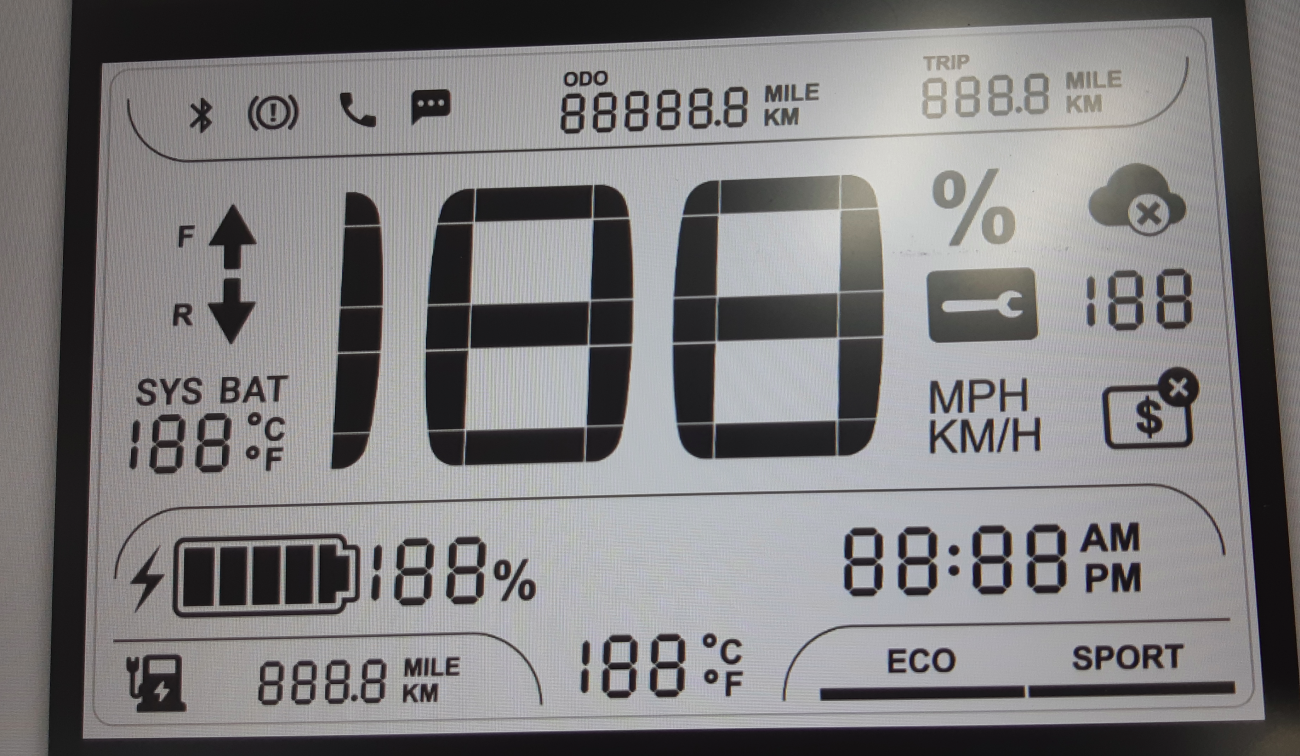bluetooth_on: (180, 92, 219, 138)
braking_on: (243, 89, 301, 135)
calling_on: (336, 87, 381, 131)
connection_lost: (1086, 160, 1190, 240)
error_code: (920, 265, 1044, 348)
low_battery: (121, 648, 191, 719)
sms_on: (407, 85, 454, 132)
vin_id: (1096, 360, 1201, 453)
